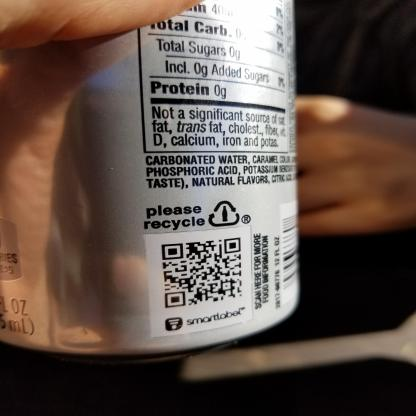barcode: (279, 209, 310, 290)
qr: (159, 235, 244, 310)
